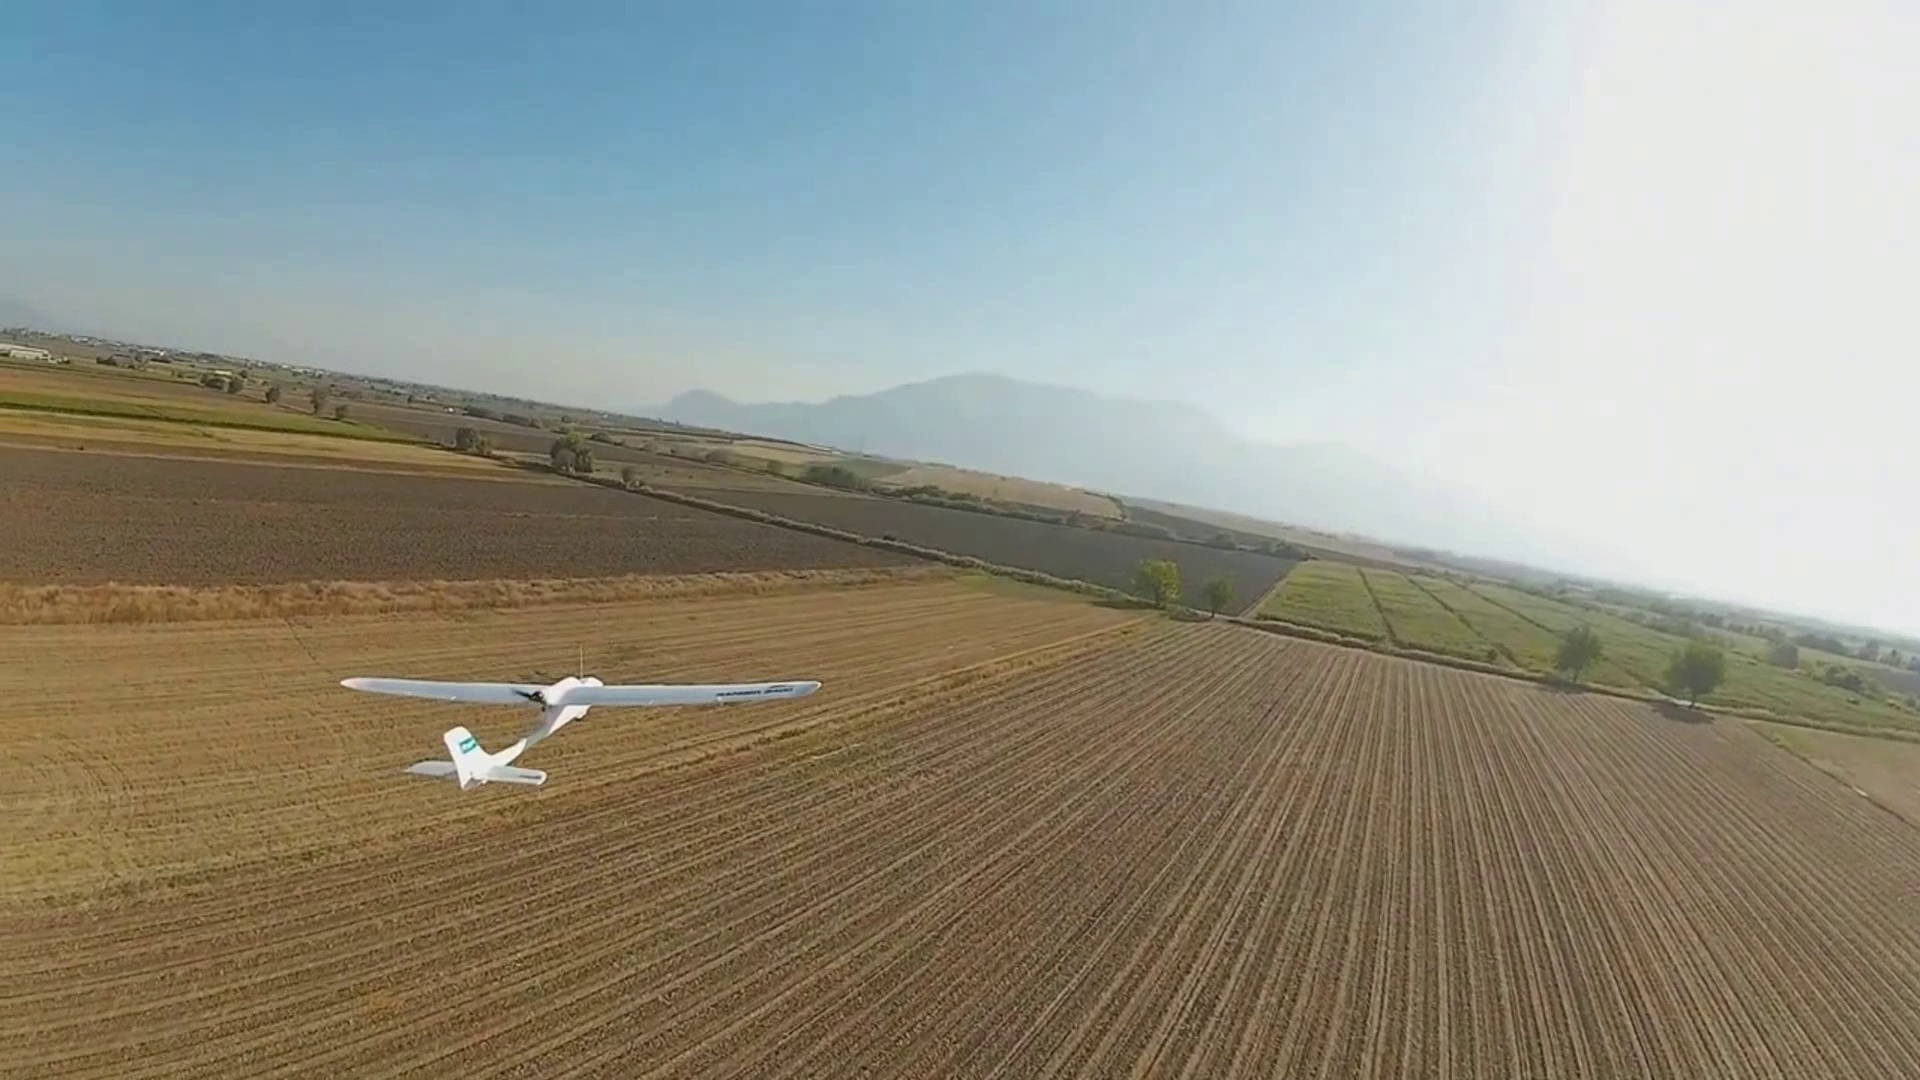airplane: (338, 669, 818, 793)
